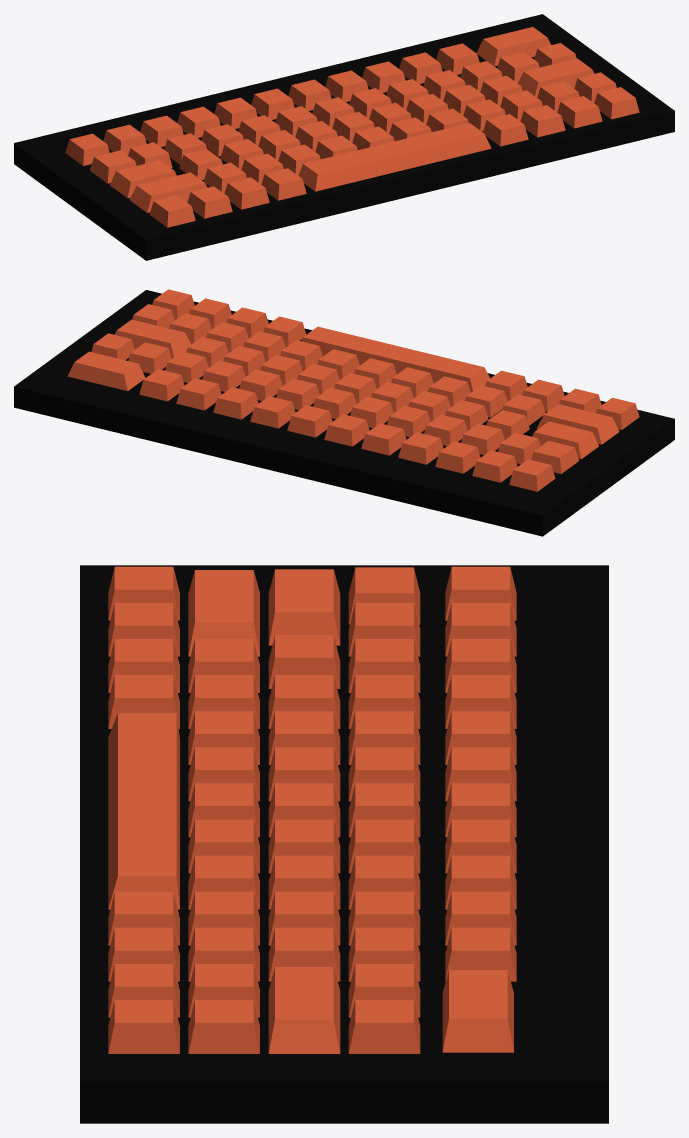
The model's file is Keyboard.glb.
The picture shows the model from 3 angles, top to bottom: view 1: azimuth 30°, elevation 25°; view 2: azimuth 150°, elevation 25°; view 3: azimuth 270°, elevation 25°; orthographic projection. The views are drawn at different scales.
Parts seen in each view (by area): view 1: Plane.031, Plane.030; view 2: Plane.031, Plane.030; view 3: Plane.031, Plane.030.
Part boxes in pixels (x1,y1,x2,y2): Plane.031: (65, 27, 639, 227); Plane.030: (14, 14, 674, 260); Plane.031: (67, 289, 639, 491); Plane.030: (14, 290, 674, 536); Plane.031: (108, 566, 516, 1053); Plane.030: (80, 565, 608, 1123).
Bounding box in the file's own units: 1.16 × 0.0739 × 0.5008.
